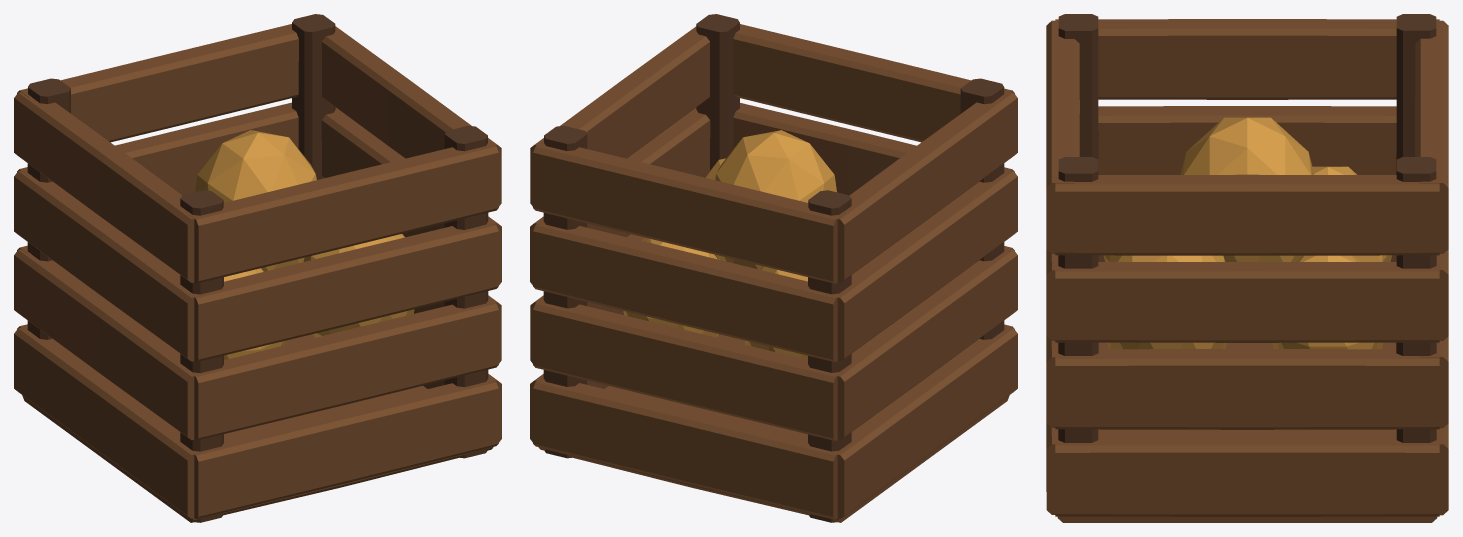
The model's file is prop_produce_crate_a.glb.
The picture shows the model from 3 angles, left to right: view 1: azimuth 30°, elevation 25°; view 2: azimuth 150°, elevation 25°; view 3: azimuth 270°, elevation 25°; orthographic projection. The views are drawn at different scales.
Visible parts, largest first — view 1: p_crate_back_slat_00, p_crate_corner_0, p_crate_pumpkin_0; view 2: p_crate_back_slat_00, p_crate_corner_0, p_crate_pumpkin_0; view 3: p_crate_back_slat_00, p_crate_corner_0, p_crate_pumpkin_0.
Boxes of the visible parts, left/top/right/bottom form: p_crate_back_slat_00: left=14, top=24, right=501, bottom=522; p_crate_corner_0: left=27, top=14, right=488, bottom=522; p_crate_pumpkin_0: left=195, top=130, right=414, bottom=360; p_crate_back_slat_00: left=530, top=24, right=1017, bottom=522; p_crate_corner_0: left=543, top=14, right=1004, bottom=522; p_crate_pumpkin_0: left=623, top=130, right=836, bottom=359; p_crate_back_slat_00: left=1046, top=19, right=1448, bottom=522; p_crate_corner_0: left=1058, top=14, right=1436, bottom=442; p_crate_pumpkin_0: left=1103, top=117, right=1391, bottom=349.
Size of the model in its own units: 0.9006 by 0.86 by 0.9006.
